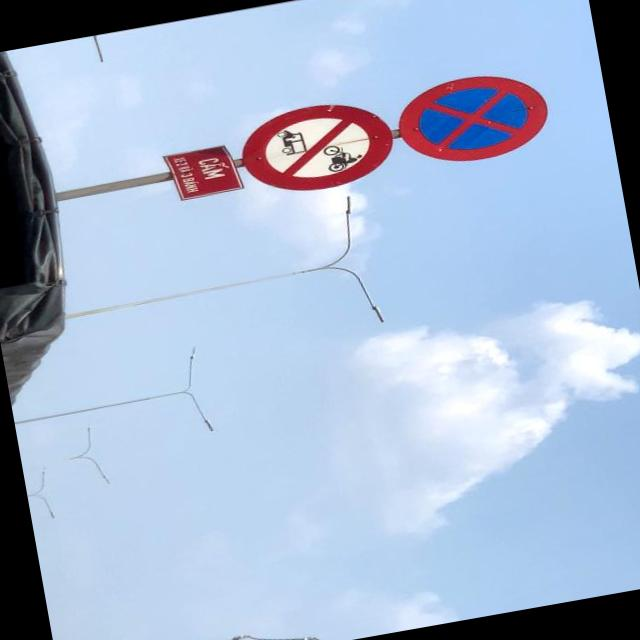P-104: (239, 94, 397, 200)
P-130: (394, 66, 554, 172)
